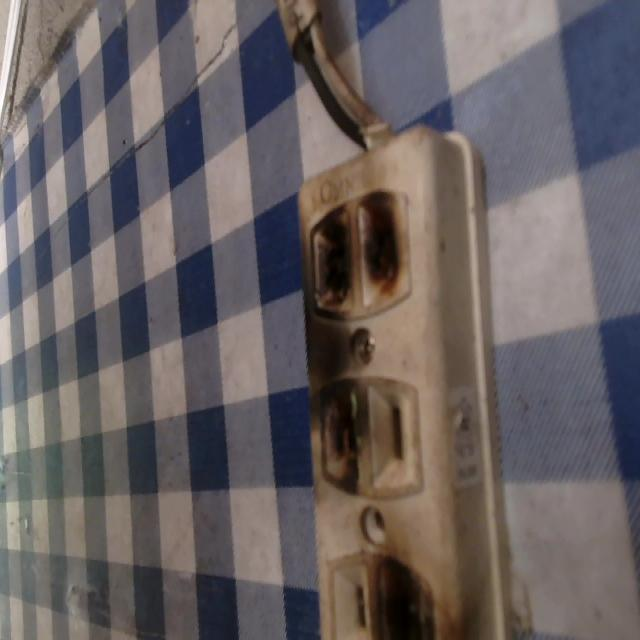-: (304, 186, 420, 322), (312, 364, 368, 500), (370, 549, 440, 639)
